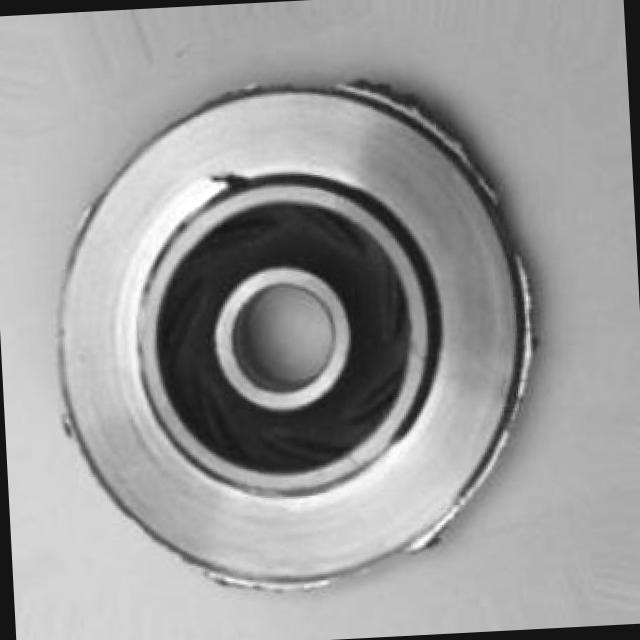Defect: (193, 164, 257, 197)
